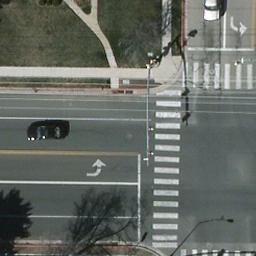car: (28, 125, 65, 141)
pickup: (201, 0, 225, 24)
